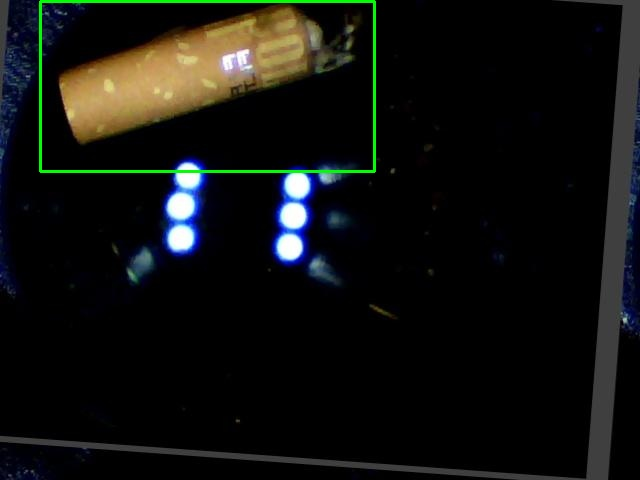megot: (40, 1, 374, 171)
